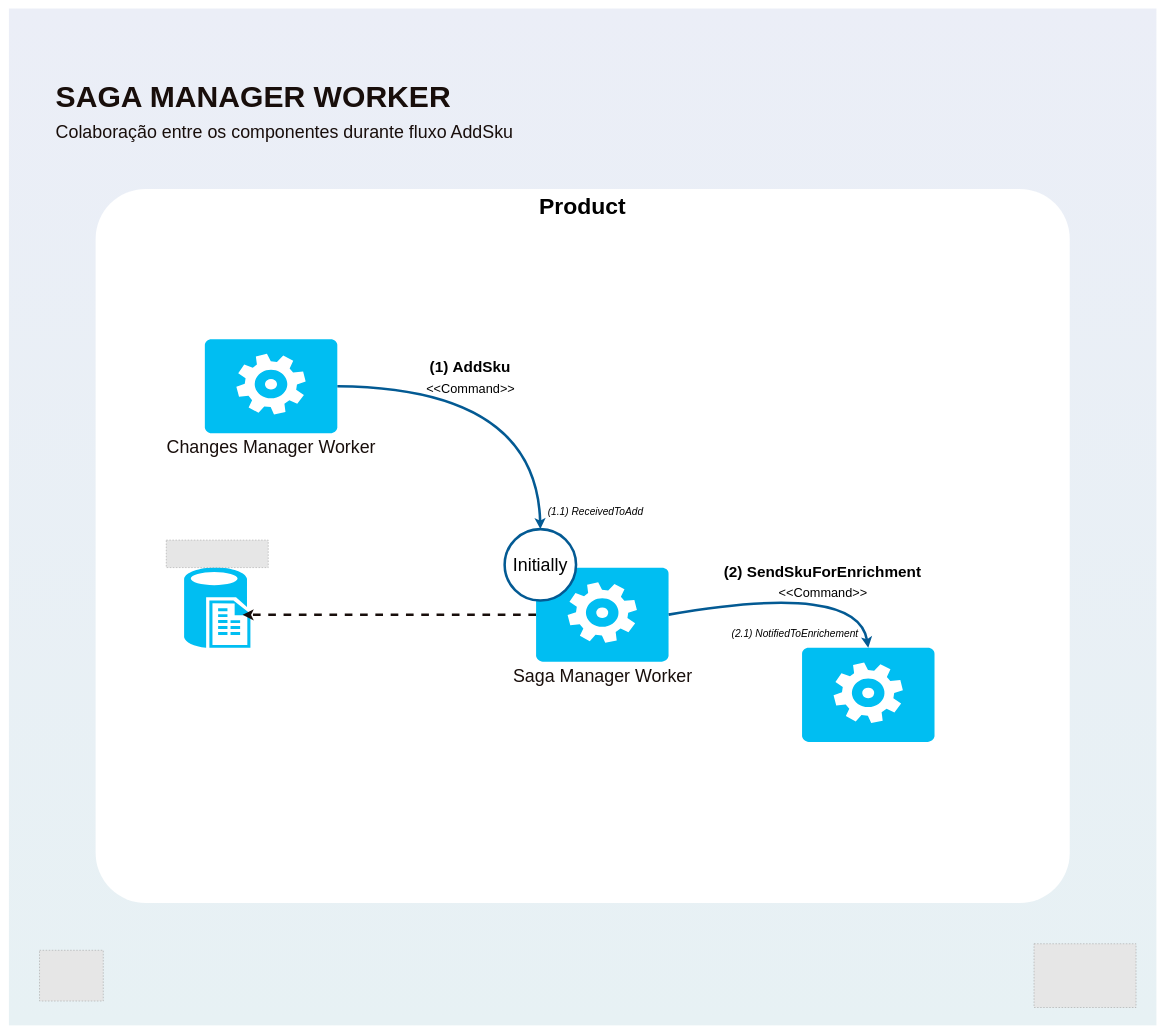
The diagram is 1165 pixels wide and 1034 high, and some of its shapes have lost their labels. Grey dashed boxes stand in for pictures. The centre of each missing label's shape, as x and y in pixels:
"Enrichment Omnilogic Worker" goes at (868,695).
"products transient" goes at (217,607).
